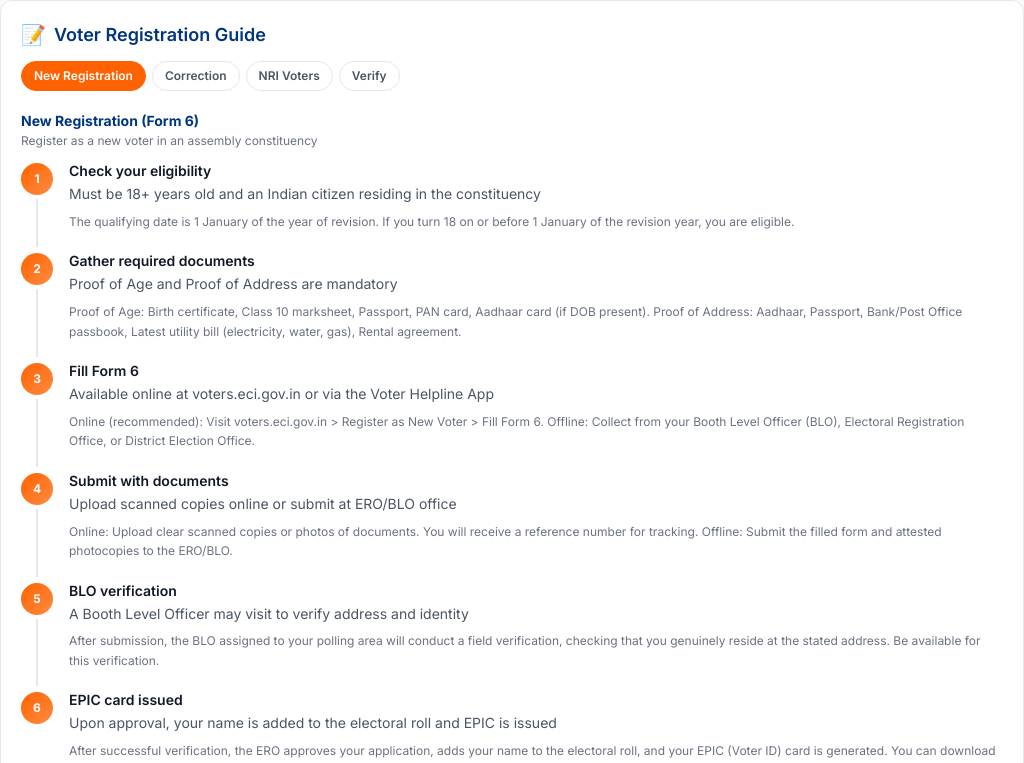
it: RegistrationTabs › switches to Correction tab when clicked
The image size is (1024, 763).
Click the tab "Correction": (196, 76) [152,61,240,91]
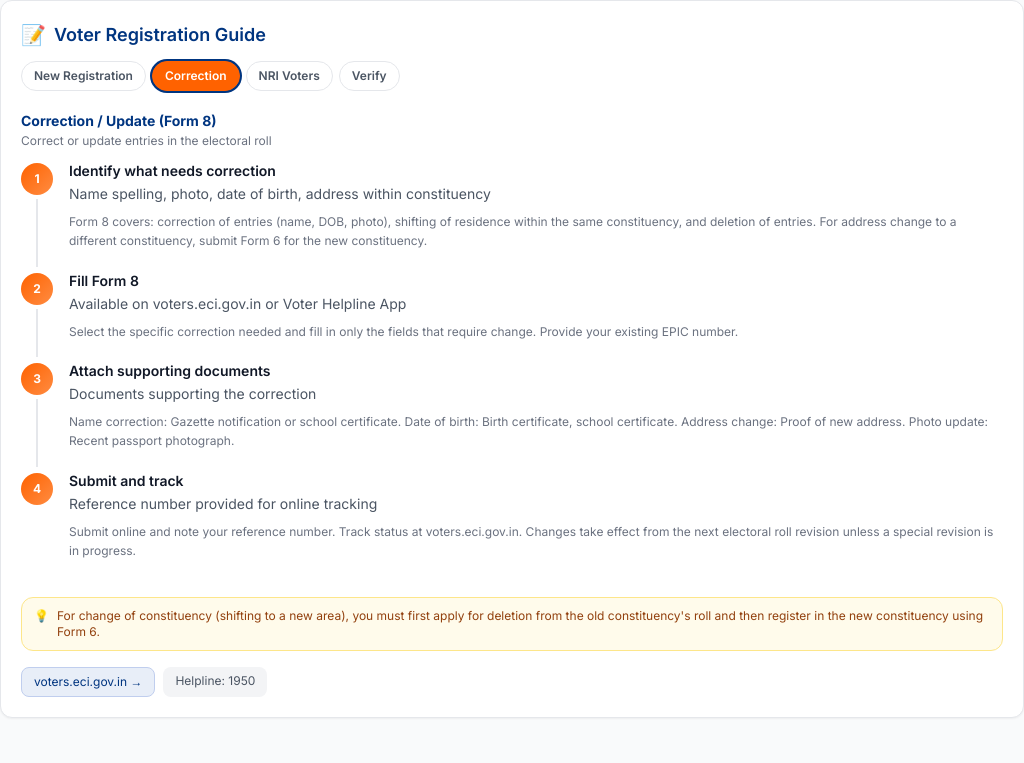
Expected: the heading "Correction / Update (Form 8)" is shown, [21,112,217,129]
